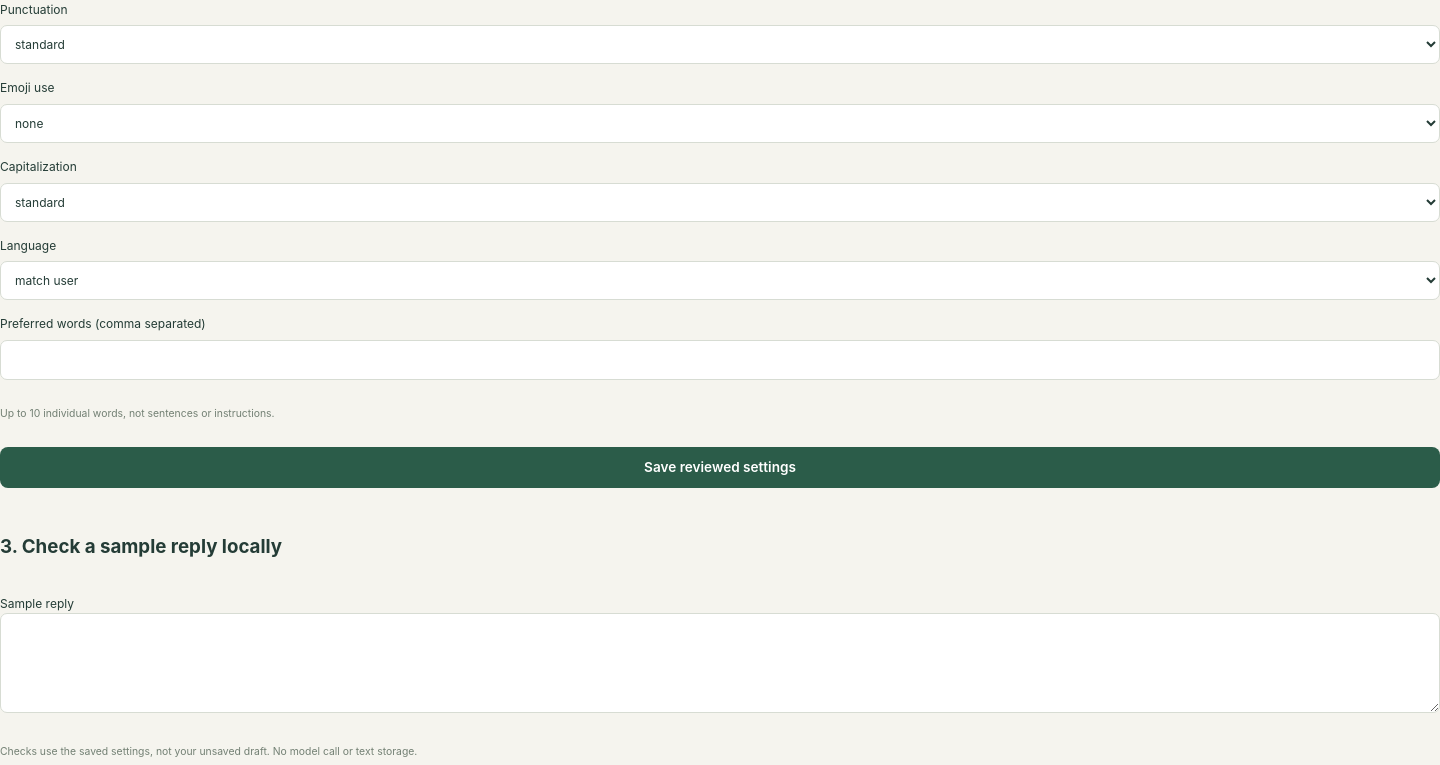
style validation keeps preferred-word edits and diagnostics reference saved settings
The width and height of the screenshot is (1440, 765).
(page scrolled)
Expected: the button "Save reviewed settings" is shown, [0,447,1439,488]
In the field labelled "Preferred words (comma separated)": (720, 360) [0,340,1439,380], type "not a word"
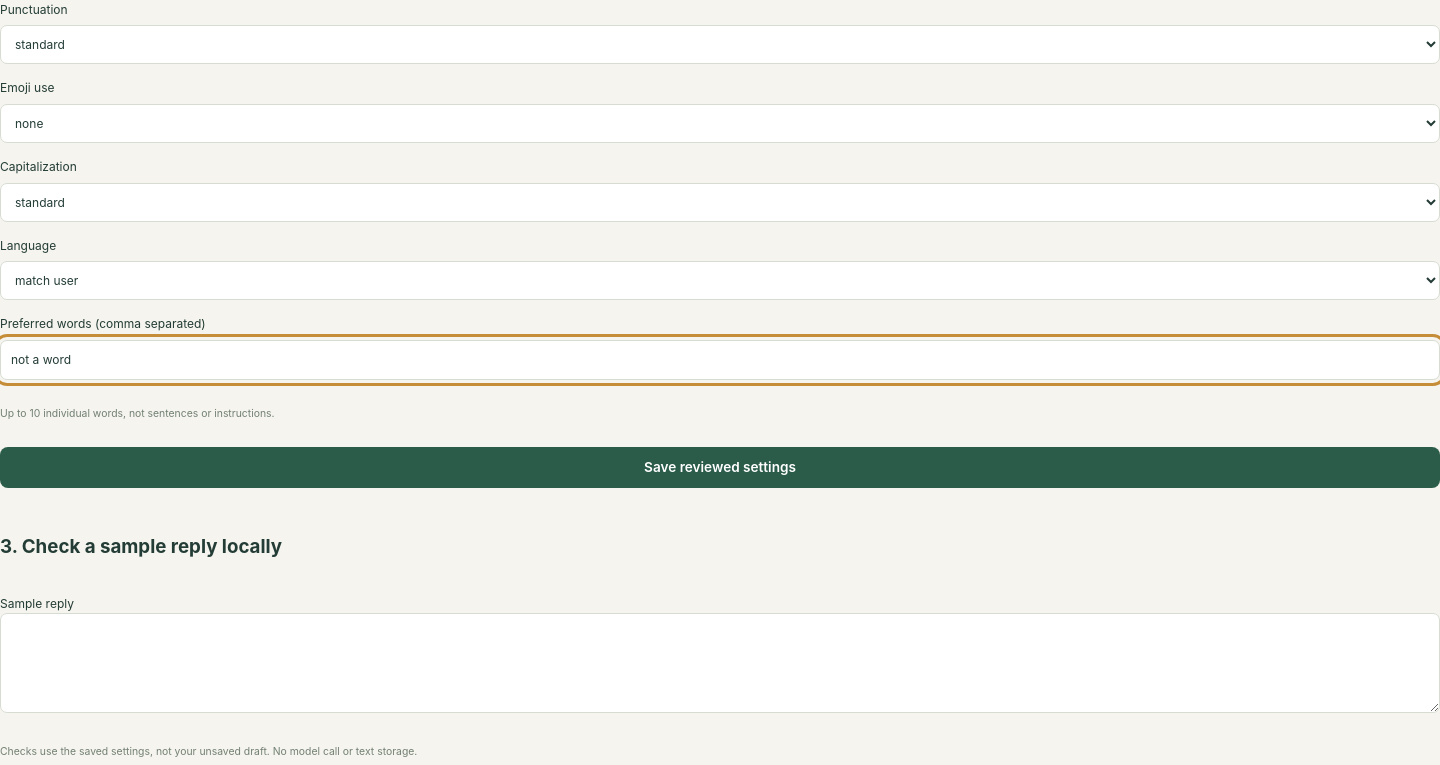
Click the button "Save reviewed settings": (720, 468) [0,447,1439,488]
(page scrolled)
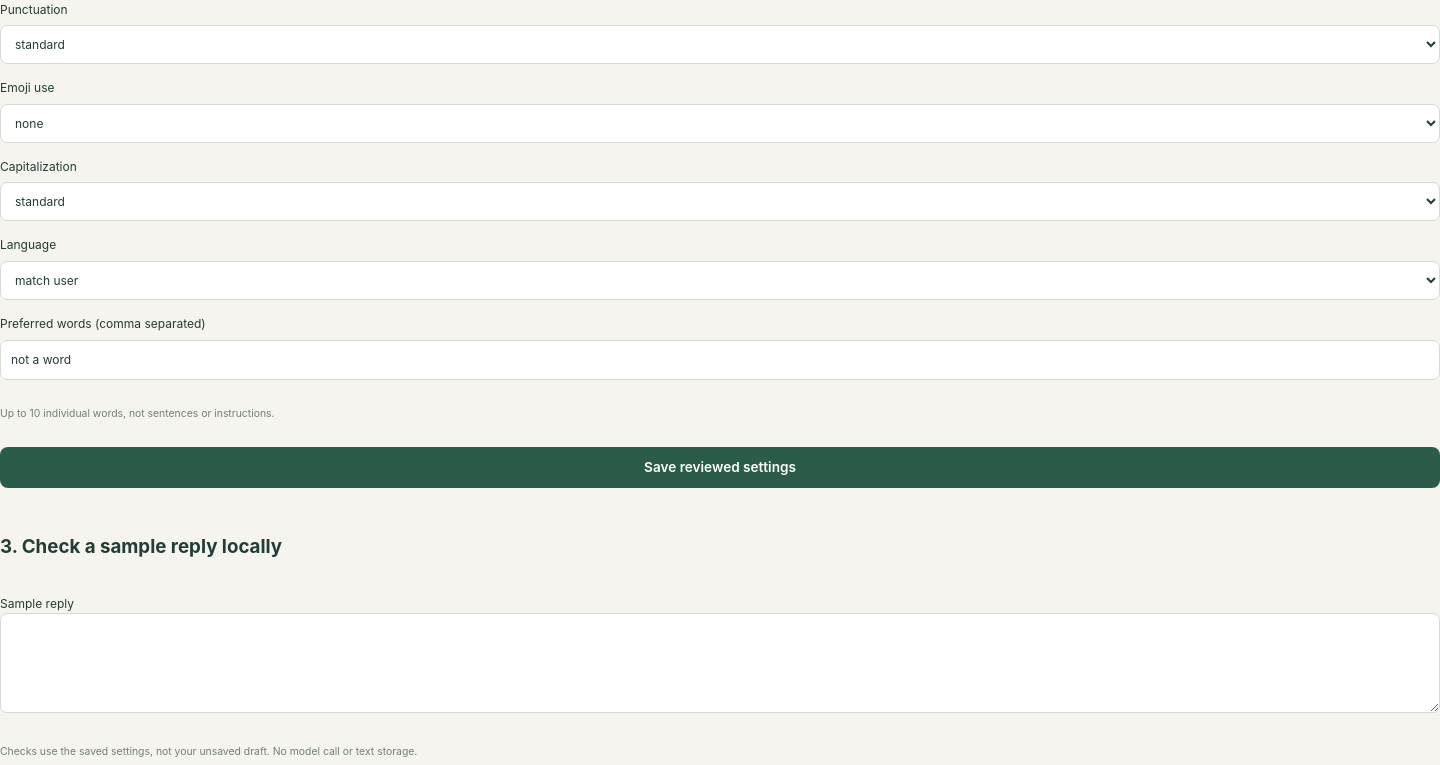
In the text box labelled "Sample reply": (720, 663) [0,613,1439,713], type "Study Python tonight."
(page scrolled)
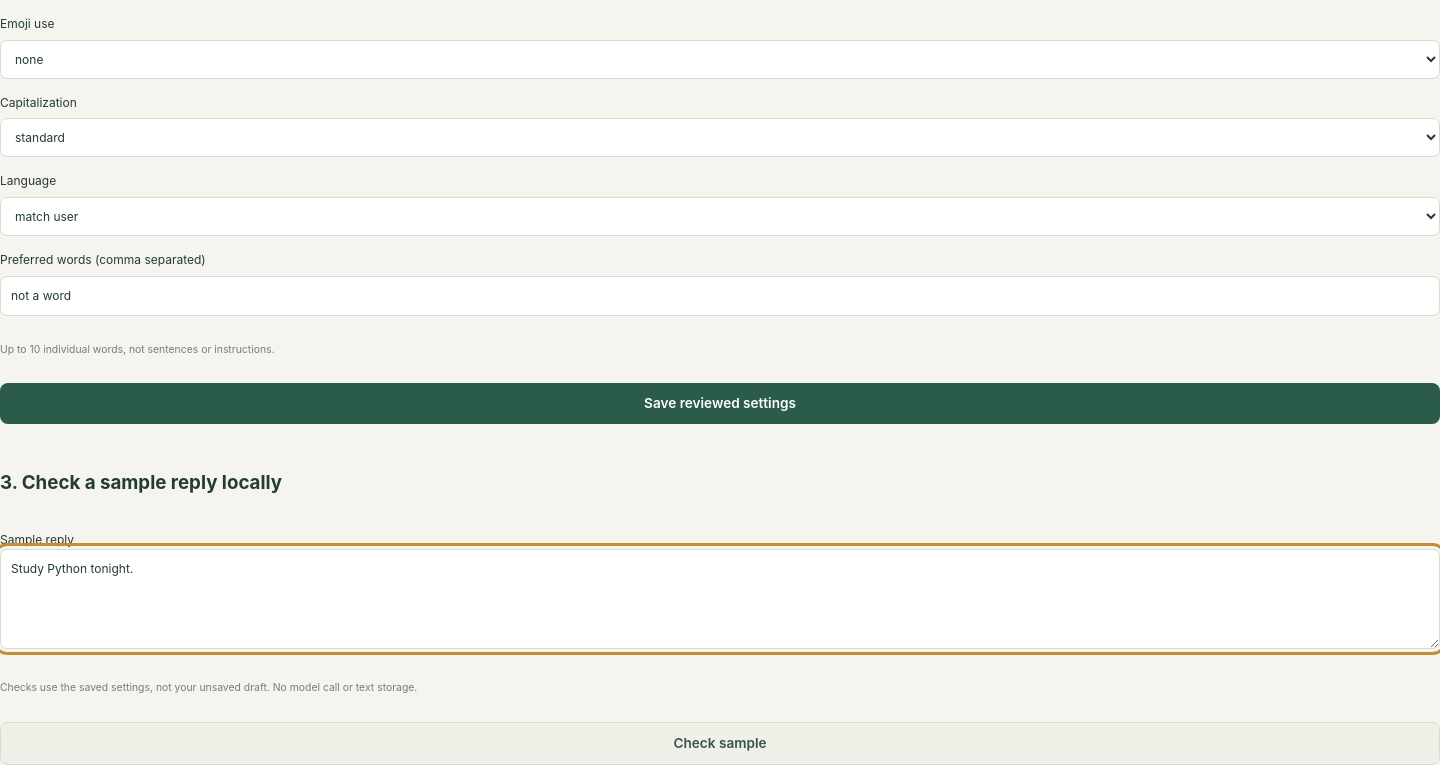
Click the button "Check sample": (720, 743) [0,722,1439,764]
(page scrolled)
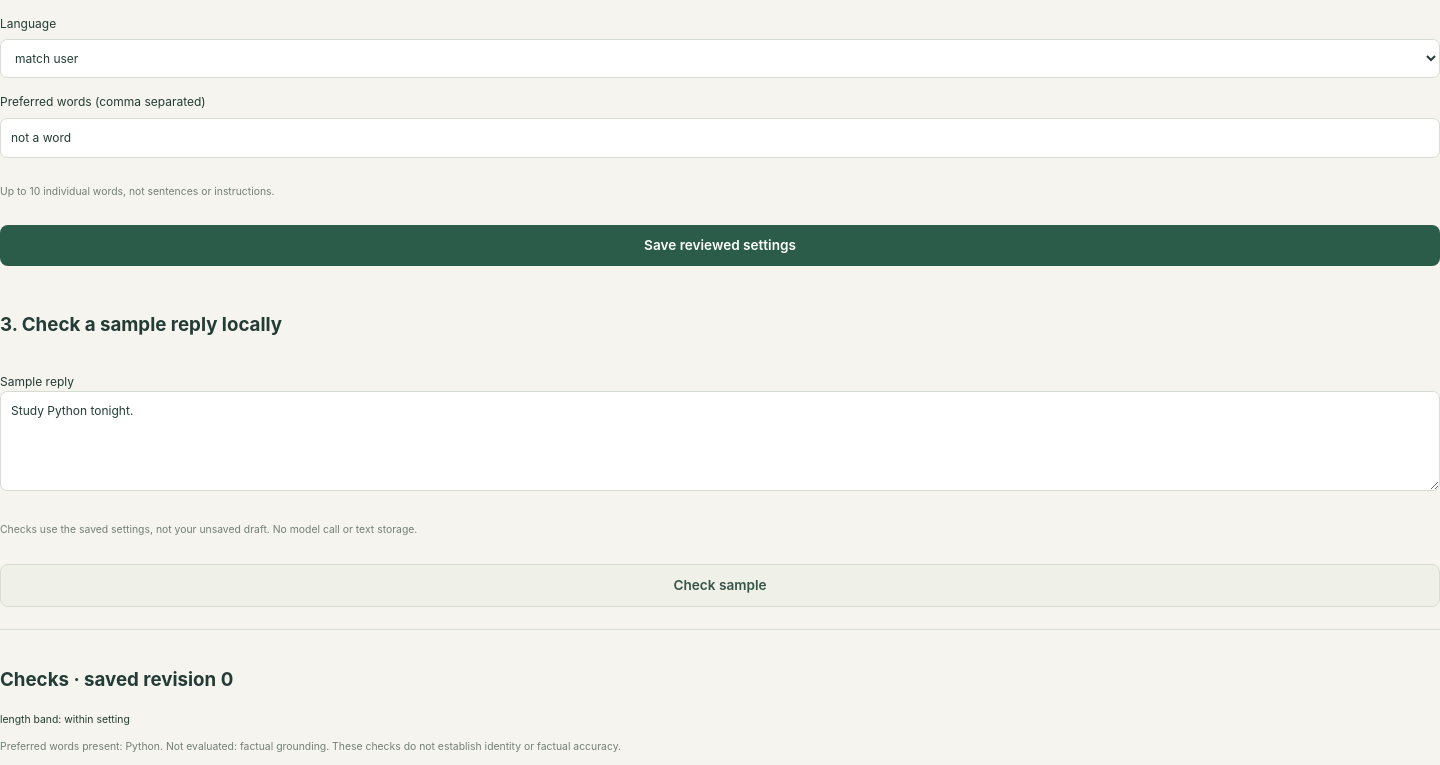
Expected: the heading "Checks · saved revision 0" is shown, [0,668,233,691]
Expected: the text "do not establish identity" is shown, [326,740,621,753]
